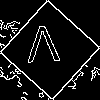V: (25, 25, 61, 72)
